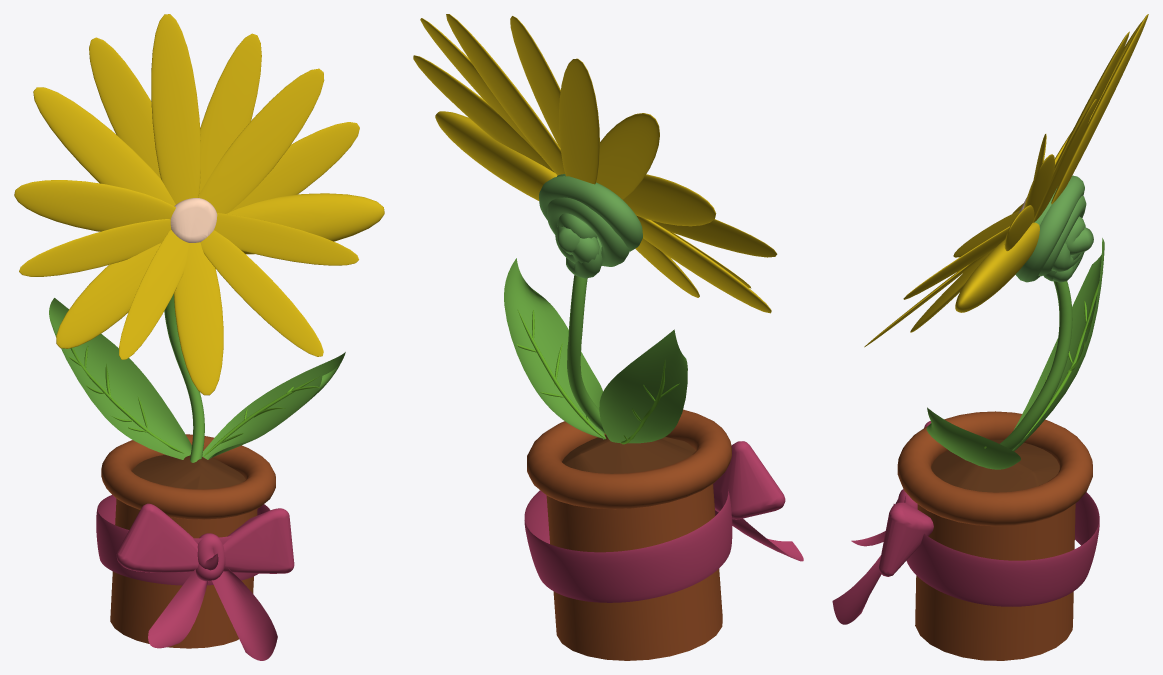
File: yellow flower.glb
3 renders of one model, left to right at view 1: azimuth 30°, elevation 25°; view 2: azimuth 150°, elevation 25°; view 3: azimuth 270°, elevation 25°, orthographic. The views are drawn at different scales.
Parts seen in each view (by area): view 1: p.0045, p.0065, n.0057, p.0067, p.0011, p.0062, p.0071, p.0075, p.0066, p.0074, p.0070, p.0064 (+15 smaller); view 2: p.0011, r.0104, p.0045, n.0056, n.0057, s.0110, p.0064, p.0062, p.0070, p.0066, s.0044, s.0101 (+11 smaller); view 3: p.0011, p.0045, r.0104, s.0044, s.0110, n.0057, p.0070, s.0052, n.0056, s.0100, p.0064, s.0111 (+10 smaller).
Part boxes in pixels (box(x1,y1,x2,y2)): p.0045: box(101, 434, 275, 519); p.0065: box(151, 14, 200, 204); n.0057: box(49, 298, 191, 459); p.0067: box(198, 68, 324, 213); p.0011: box(110, 498, 257, 648); p.0062: box(33, 87, 175, 205); p.0071: box(14, 180, 175, 231); p.0075: box(174, 242, 223, 395); p.0066: box(199, 33, 261, 194); p.0074: box(200, 230, 323, 356); p.0070: box(226, 193, 384, 254); p.0064: box(89, 37, 160, 178); p.0011: box(546, 484, 722, 660); r.0104: box(524, 490, 732, 602); p.0045: box(527, 409, 731, 509); n.0056: box(504, 258, 606, 439); n.0057: box(599, 329, 687, 443); s.0110: box(539, 174, 642, 266); p.0064: box(559, 58, 599, 184); p.0062: box(596, 113, 659, 199); p.0070: box(435, 111, 557, 200); p.0066: box(446, 14, 565, 175); s.0044: box(562, 435, 695, 473); s.0101: box(713, 441, 785, 519); p.0011: box(915, 503, 1075, 660); p.0045: box(897, 411, 1092, 526); r.0104: box(904, 492, 1099, 606); s.0044: box(931, 439, 1059, 492); s.0110: box(1015, 175, 1086, 282); n.0057: box(1012, 238, 1104, 451); p.0070: box(955, 222, 1039, 312); s.0052: box(1000, 281, 1072, 449); n.0056: box(926, 407, 1020, 469); s.0100: box(879, 502, 933, 576); p.0064: box(1051, 14, 1148, 204); s.0111: box(1043, 216, 1093, 282).
Size of the model in its own units: 0.4267 by 0.6915 by 0.3195.
